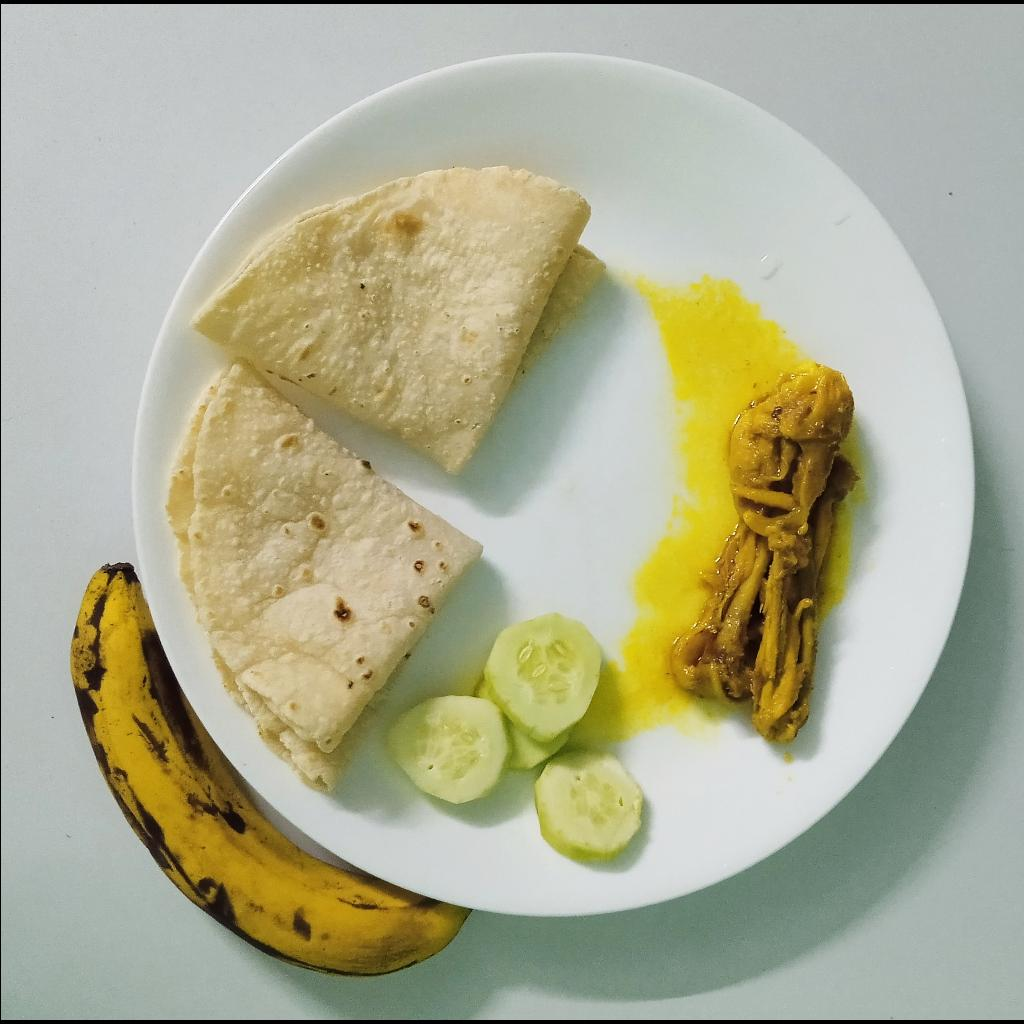banana: (70, 562, 471, 981)
chicken: (663, 361, 859, 744)
cucumber: (390, 613, 644, 868)
ruti: (164, 364, 481, 803), (188, 168, 610, 484)
